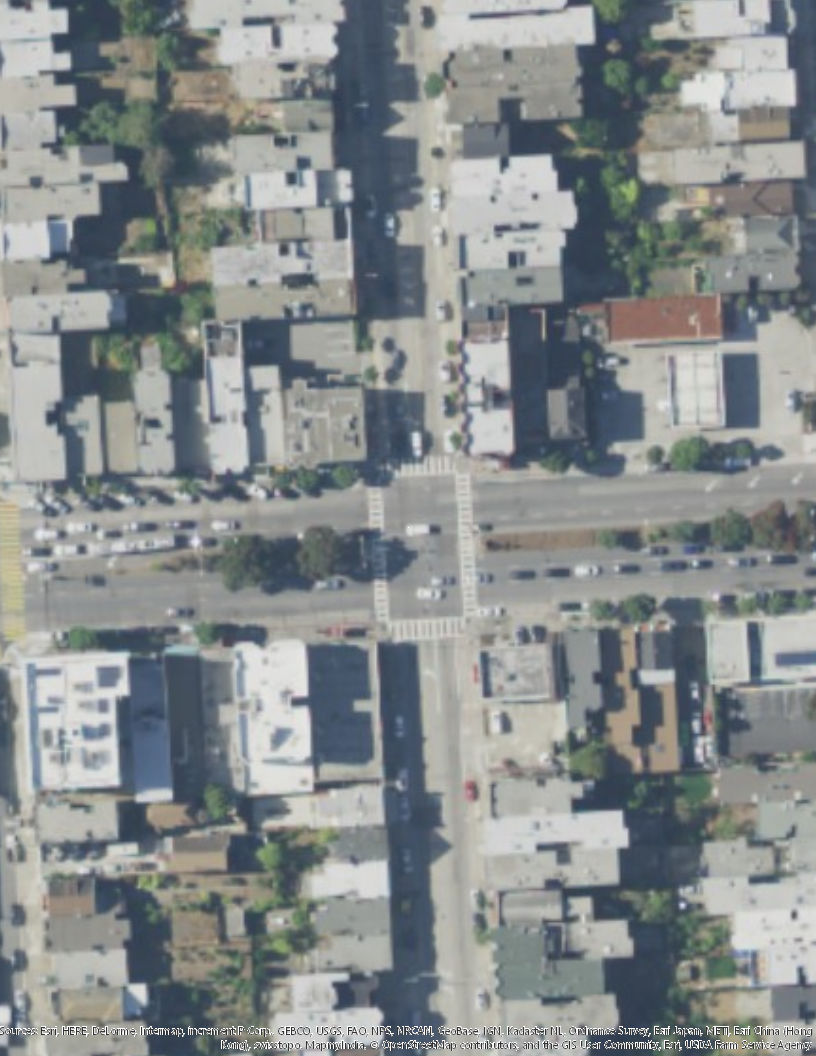zebracross: (453, 475, 481, 616), (1, 503, 26, 639), (366, 486, 391, 620), (388, 617, 466, 646), (386, 457, 456, 481)
